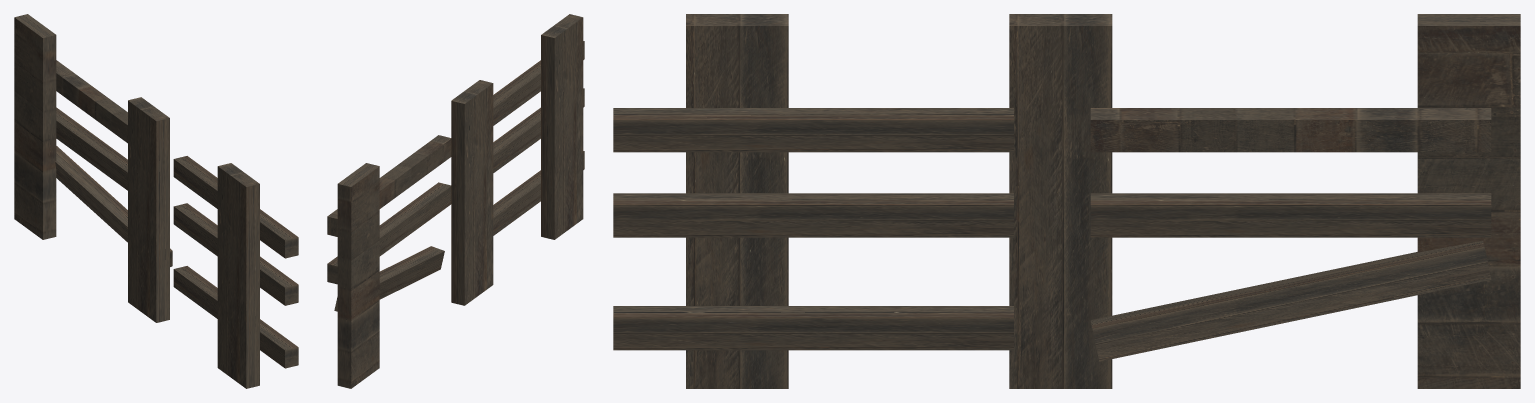
File: WoodenFences.fbx
3 renders of one model, left to right at view 1: azimuth 30°, elevation 25°; view 2: azimuth 150°, elevation 25°; view 3: azimuth 270°, elevation 25°, orthographic. The views are drawn at different scales.
Visible parts, largest first — view 1: Cube.039, Cube.034, Cube.038, Cube.041, Cube.040, Cube.042, Cube.037, Cube.035, Cube.036; view 2: Cube.038, Cube.034, Cube.039, Cube.035, Cube.036, Cube.037, Cube.041, Cube.040, Cube.042; view 3: Cube.038, Cube.034, Cube.039, Cube.036, Cube.035, Cube.040, Cube.041, Cube.042, Cube.037.
Boxes of the visible parts, x1=… form: Cube.039: x1=217, y1=163, x2=259, y2=388; Cube.034: x1=14, y1=14, x2=56, y2=239; Cube.038: x1=128, y1=97, x2=169, y2=322; Cube.041: x1=173, y1=203, x2=298, y2=305; Cube.040: x1=173, y1=156, x2=298, y2=258; Cube.042: x1=173, y1=266, x2=298, y2=368; Cube.037: x1=55, y1=146, x2=172, y2=266; Cube.035: x1=56, y1=60, x2=127, y2=143; Cube.036: x1=56, y1=107, x2=127, y2=190; Cube.038: x1=451, y1=80, x2=493, y2=305; Cube.034: x1=337, y1=163, x2=379, y2=388; Cube.039: x1=541, y1=14, x2=583, y2=239; Cube.035: x1=327, y1=135, x2=451, y2=236; Cube.036: x1=327, y1=182, x2=451, y2=284; Cube.037: x1=334, y1=246, x2=444, y2=311; Cube.041: x1=493, y1=88, x2=584, y2=172; Cube.040: x1=493, y1=41, x2=584, y2=125; Cube.042: x1=493, y1=151, x2=584, y2=235; Cube.038: x1=1009, y1=14, x2=1112, y2=388; Cube.034: x1=1417, y1=14, x2=1520, y2=388; Cube.039: x1=686, y1=14, x2=788, y2=388; Cube.036: x1=1090, y1=193, x2=1491, y2=237; Cube.035: x1=1090, y1=108, x2=1491, y2=152; Cube.040: x1=613, y1=108, x2=1013, y2=152; Cube.041: x1=613, y1=193, x2=1013, y2=237; Cube.042: x1=613, y1=306, x2=1013, y2=350; Cube.037: x1=1090, y1=240, x2=1491, y2=361.
Bounding box in the file's own units: 68.67 × 321 × 727.
